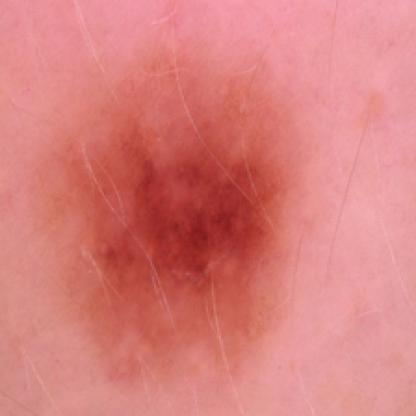benign: (87, 93, 273, 306)
